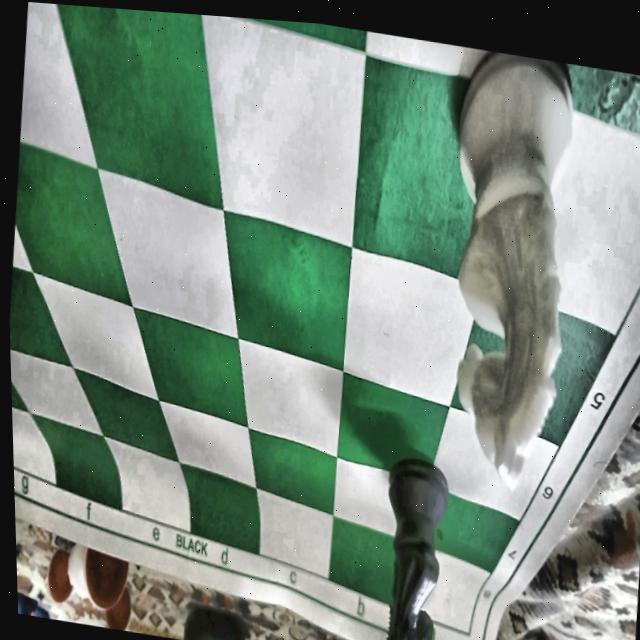BlackKnight: (369, 449, 456, 640)
WhiteKnight: (424, 43, 590, 499), (444, 444, 450, 451)
